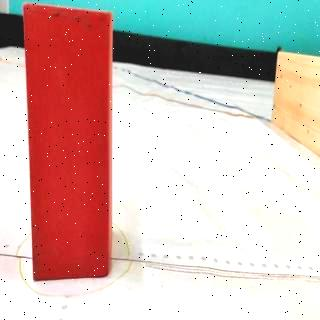redbox: (24, 3, 112, 280)
